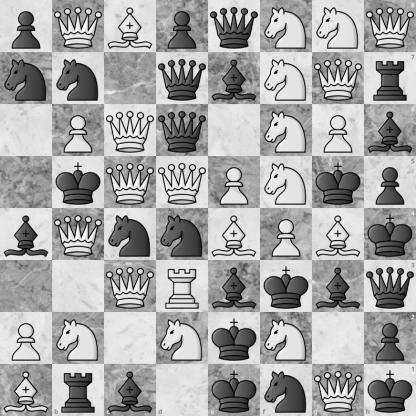B: (0, 364, 52, 416), (105, 1, 156, 52), (209, 209, 260, 260), (313, 209, 364, 260)
N: (53, 313, 104, 364), (157, 313, 208, 364), (261, 1, 312, 52), (261, 53, 312, 104), (261, 105, 312, 156), (261, 157, 312, 208), (261, 313, 312, 364), (313, 1, 364, 52)
P: (1, 313, 52, 364), (53, 105, 104, 156), (209, 157, 260, 208), (261, 209, 312, 260), (313, 105, 364, 156)
Q: (312, 364, 364, 416), (364, 0, 416, 52), (53, 1, 104, 52), (53, 209, 104, 260), (105, 105, 156, 156), (105, 157, 156, 208), (105, 261, 156, 312), (157, 157, 208, 208), (313, 53, 364, 104)
R: (157, 261, 208, 312)
b: (104, 364, 156, 416), (364, 104, 416, 156), (1, 209, 52, 260), (209, 53, 260, 104), (209, 261, 260, 312), (313, 261, 364, 312)
board: (0, 0, 415, 415)
k: (364, 364, 416, 416), (209, 364, 260, 416), (364, 209, 416, 260), (53, 157, 104, 208), (209, 313, 260, 364), (261, 261, 312, 312), (313, 157, 364, 208)
n: (260, 364, 312, 416), (1, 53, 52, 104), (53, 53, 104, 104), (105, 209, 156, 260), (157, 209, 208, 260)
p: (364, 156, 416, 209), (364, 312, 416, 364), (1, 1, 52, 52), (157, 1, 208, 52)
q: (364, 260, 416, 312), (157, 53, 208, 104), (157, 105, 208, 156), (209, 1, 260, 52)
r: (52, 364, 104, 416), (364, 52, 416, 104)
